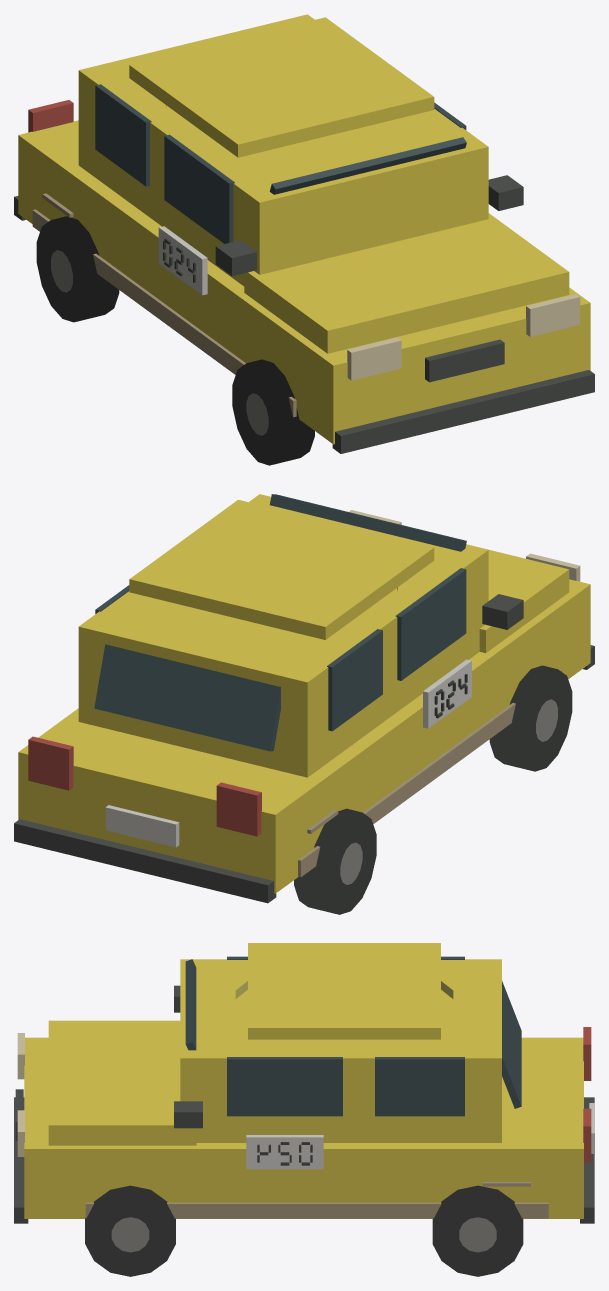
The model's file is lushois-yellow-hatchback.glb.
3 renders of one model, top to bottom at view 1: azimuth 30°, elevation 25°; view 2: azimuth 150°, elevation 25°; view 3: azimuth 270°, elevation 25°, orthographic. The views are drawn at different scales.
Visible parts, largest first — view 1: TaxiCitadineJaune; view 2: TaxiCitadineJaune; view 3: TaxiCitadineJaune.
Part boxes in pixels (left/top/right/bottom): TaxiCitadineJaune: left=14, top=14, right=594, bottom=465; TaxiCitadineJaune: left=14, top=494, right=594, bottom=914; TaxiCitadineJaune: left=14, top=943, right=594, bottom=1276.
Size of the model in its own units: 1.86 by 1.57 by 3.61.
